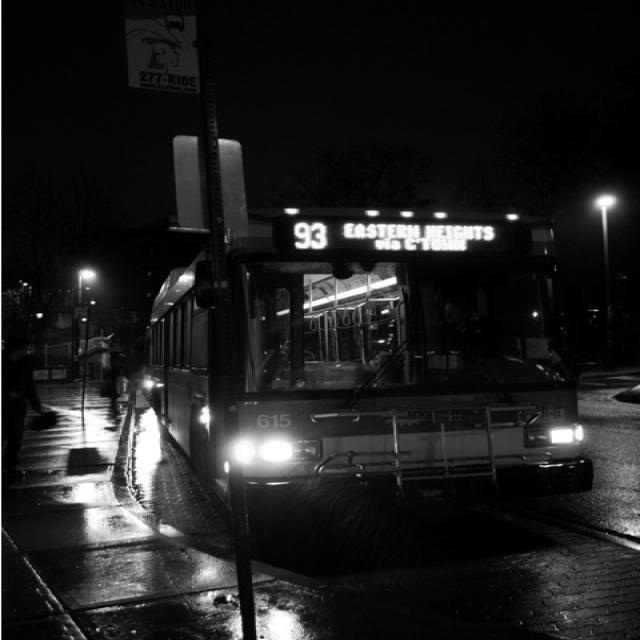Bus: (97, 185, 617, 518)
People: (0, 258, 57, 495)
